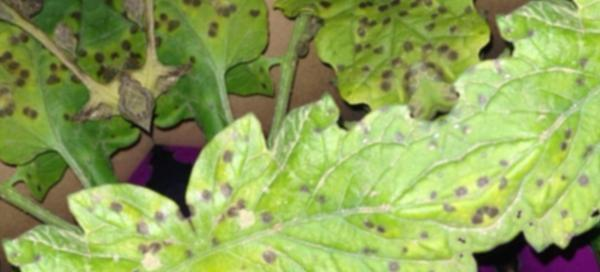Tomato Septoria leaf spot: (159, 40, 519, 272), (52, 0, 303, 146), (197, 0, 360, 4)
